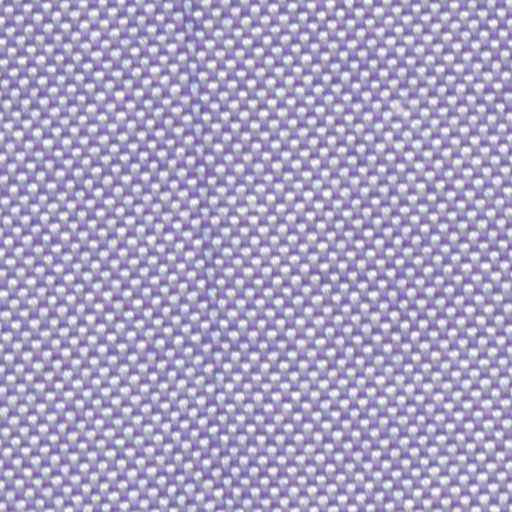TuoSha: (164, 8, 244, 498)
